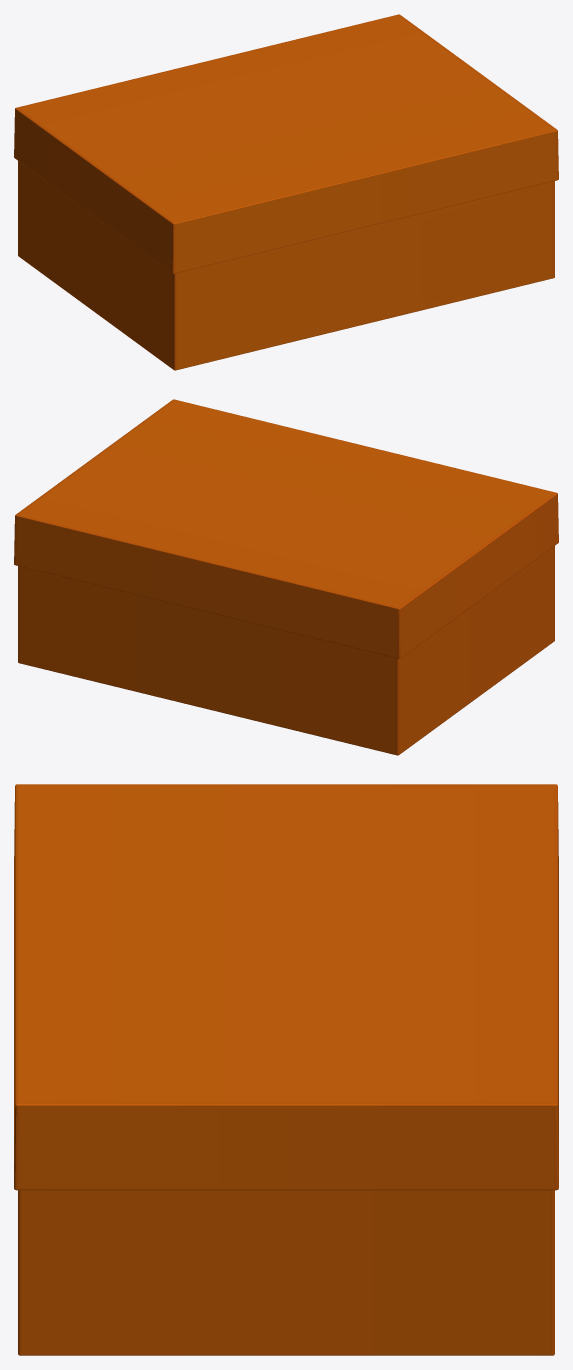
The model's file is Orange Shoebox.fbx.
3 views of the same model, one above another, from view 1: azimuth 30°, elevation 25°; view 2: azimuth 150°, elevation 25°; view 3: azimuth 270°, elevation 25° (orthographic). The views are drawn at different scales.
Parts seen in each view (by area): view 1: Orange Shoebox; view 2: Orange Shoebox; view 3: Orange Shoebox.
Part boxes in pixels (x1,y1,x2,y2): Orange Shoebox: (14, 14, 558, 370); Orange Shoebox: (14, 399, 558, 755); Orange Shoebox: (14, 784, 558, 1355).
Size of the model in its own units: 95.2 by 186 by 260.
1 material, 1 textured.
